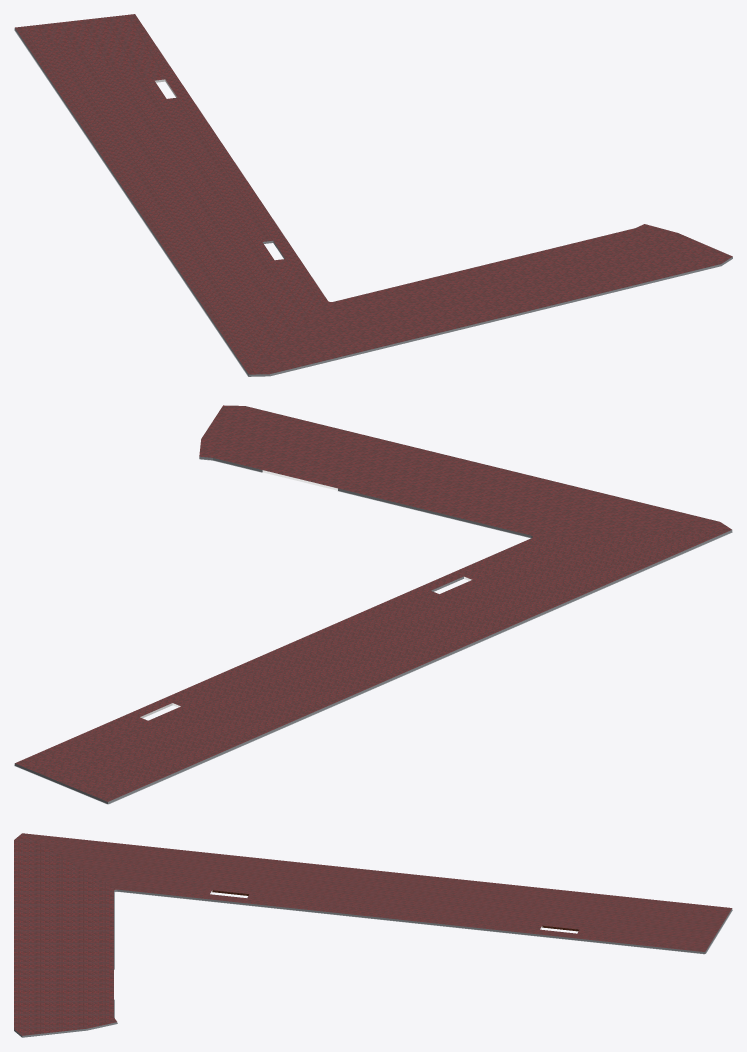
Rendered from espe_base1.glb.
3 renders of one model, top to bottom at view 1: azimuth 30°, elevation 25°; view 2: azimuth 150°, elevation 25°; view 3: azimuth 270°, elevation 25°, orthographic. The views are drawn at different scales.
Parts seen in each view (by area): view 1: piso base; view 2: piso base; view 3: piso base.
Boxes of the visible parts, <box> form: piso base: <box>14,14,732,376</box>; piso base: <box>14,405,732,804</box>; piso base: <box>14,833,732,1037</box>.
Size of the model in its own units: 396 by 2.05 by 593.
4 materials, 4 textured.
